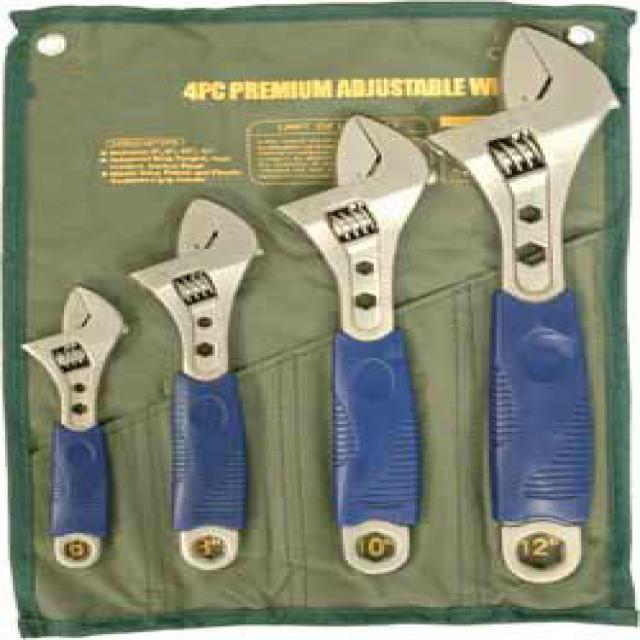wrench: (434, 20, 627, 596), (288, 112, 438, 578), (131, 186, 261, 582), (19, 280, 131, 586)
